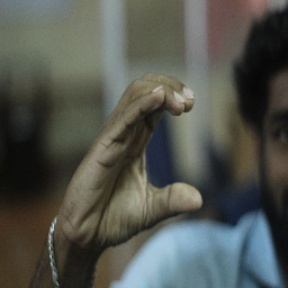C: (82, 67, 214, 227)
